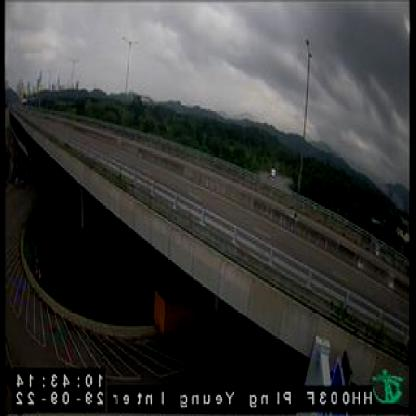Truck: (145, 279, 228, 342)
